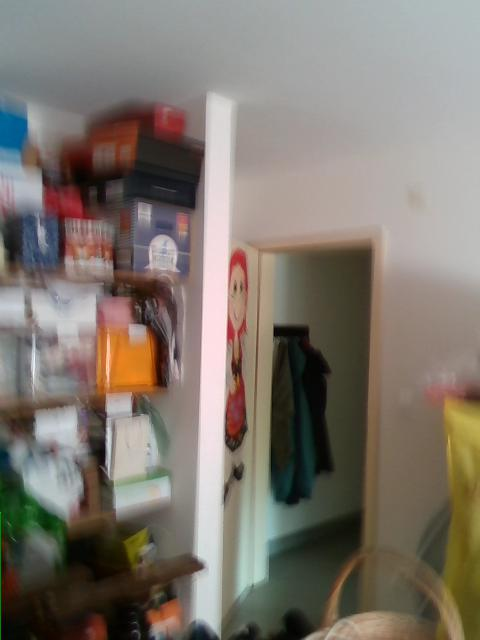door: (223, 237, 257, 626)
